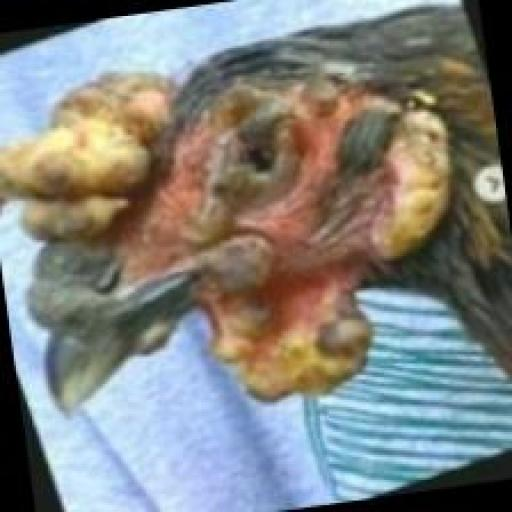disease: (1, 44, 465, 414)
